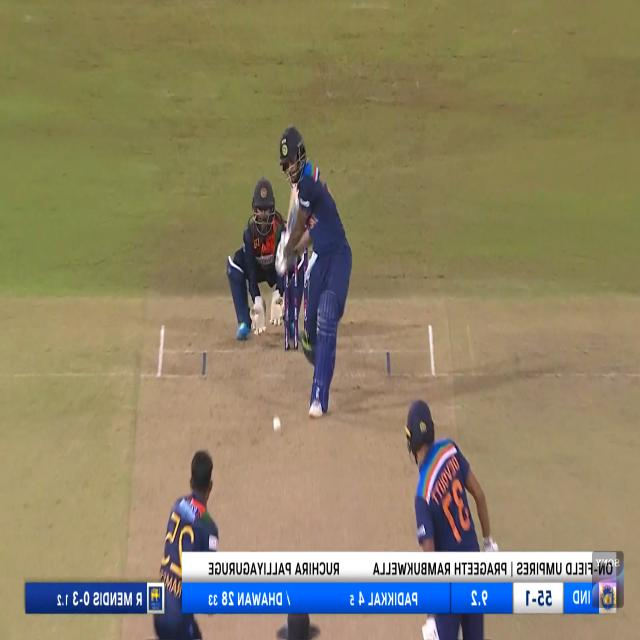ball: (272, 415, 283, 437)
